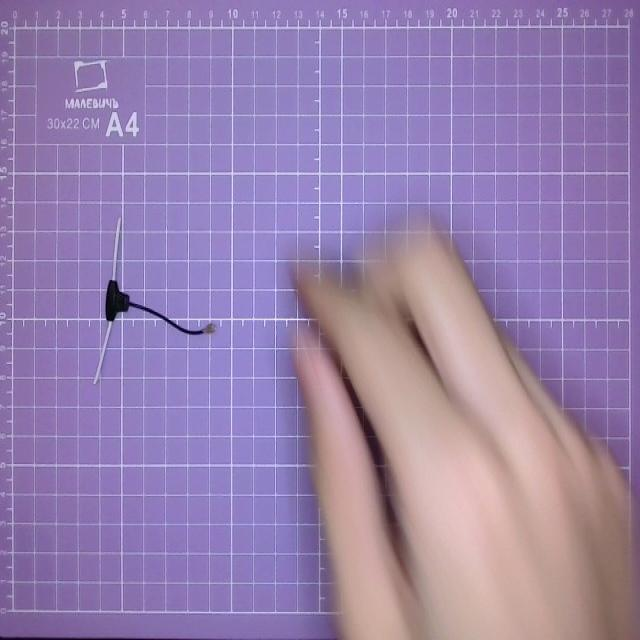antenna: (94, 215, 217, 378)
